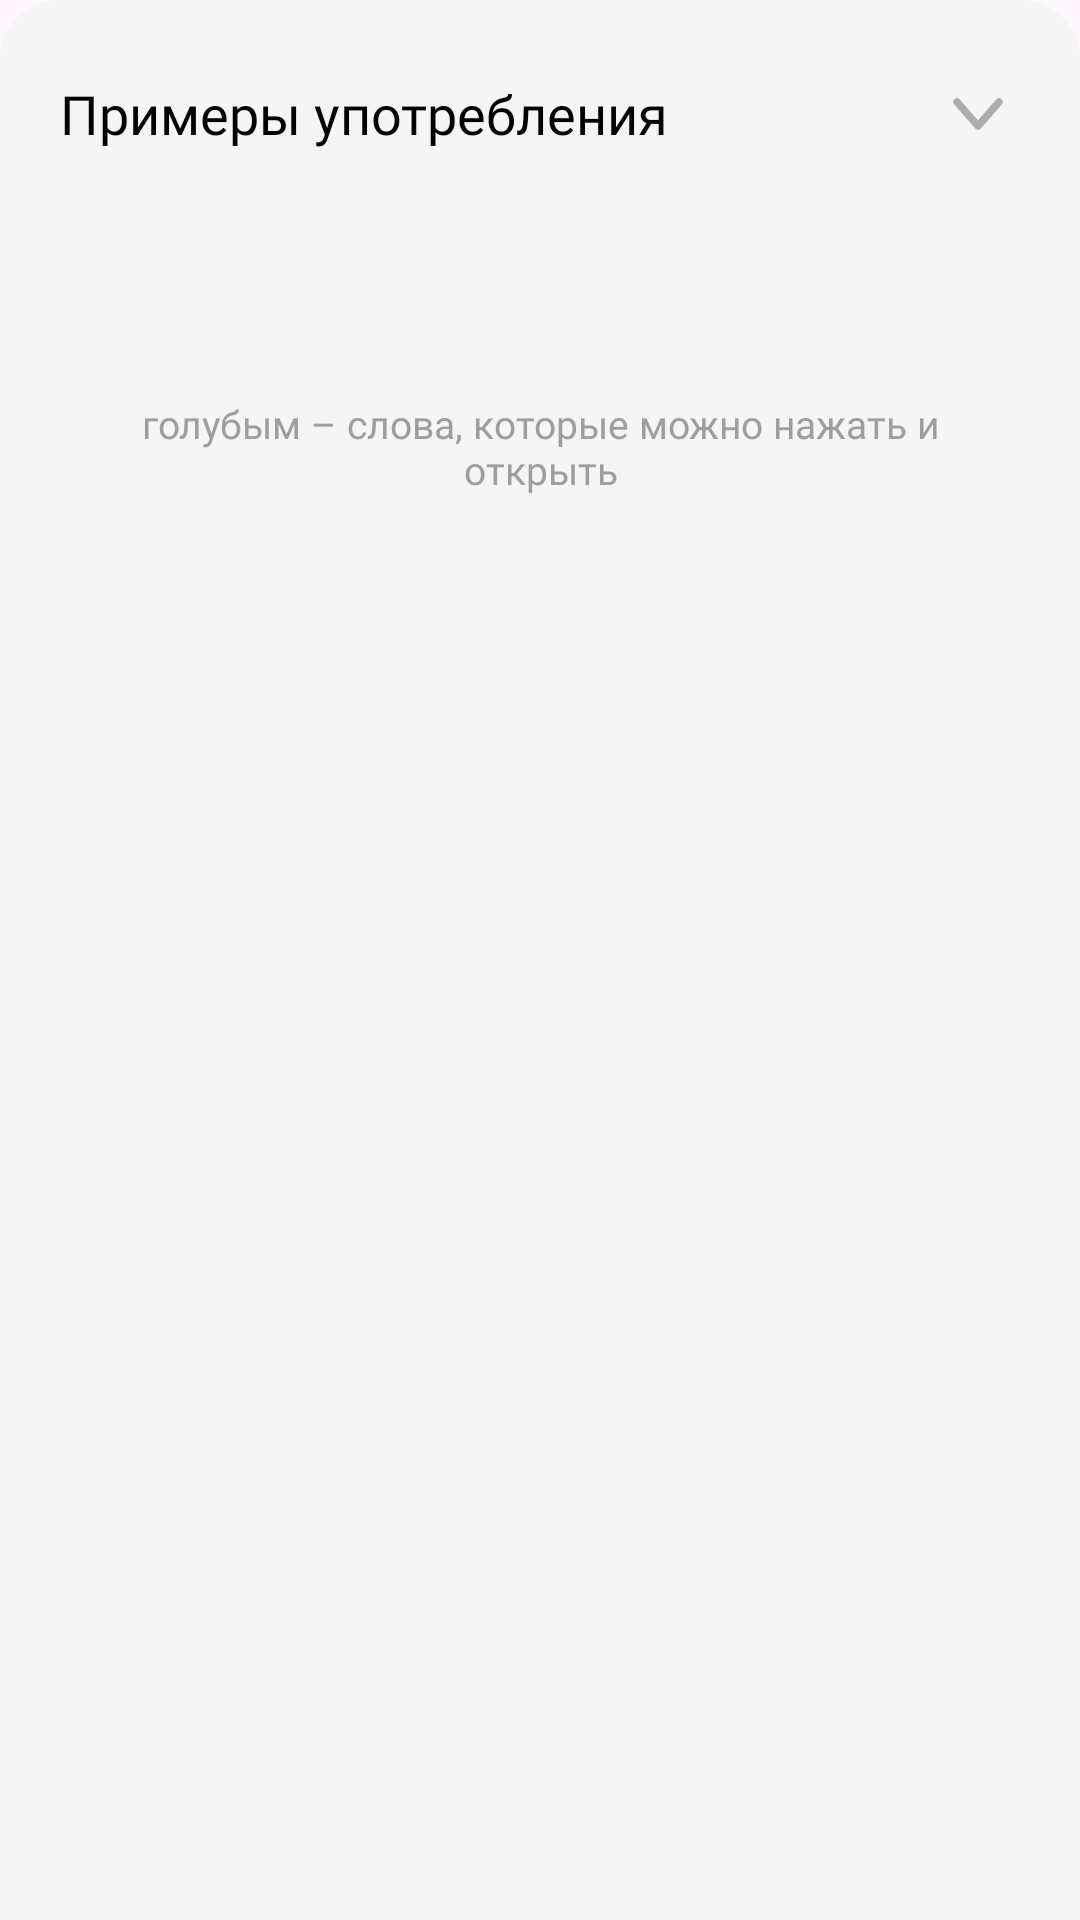

Screen size 1080w x 1920h. Icon name, then its box in pixels as (x1, y1, x2, y2):
collapse: (953, 98, 1003, 130)
